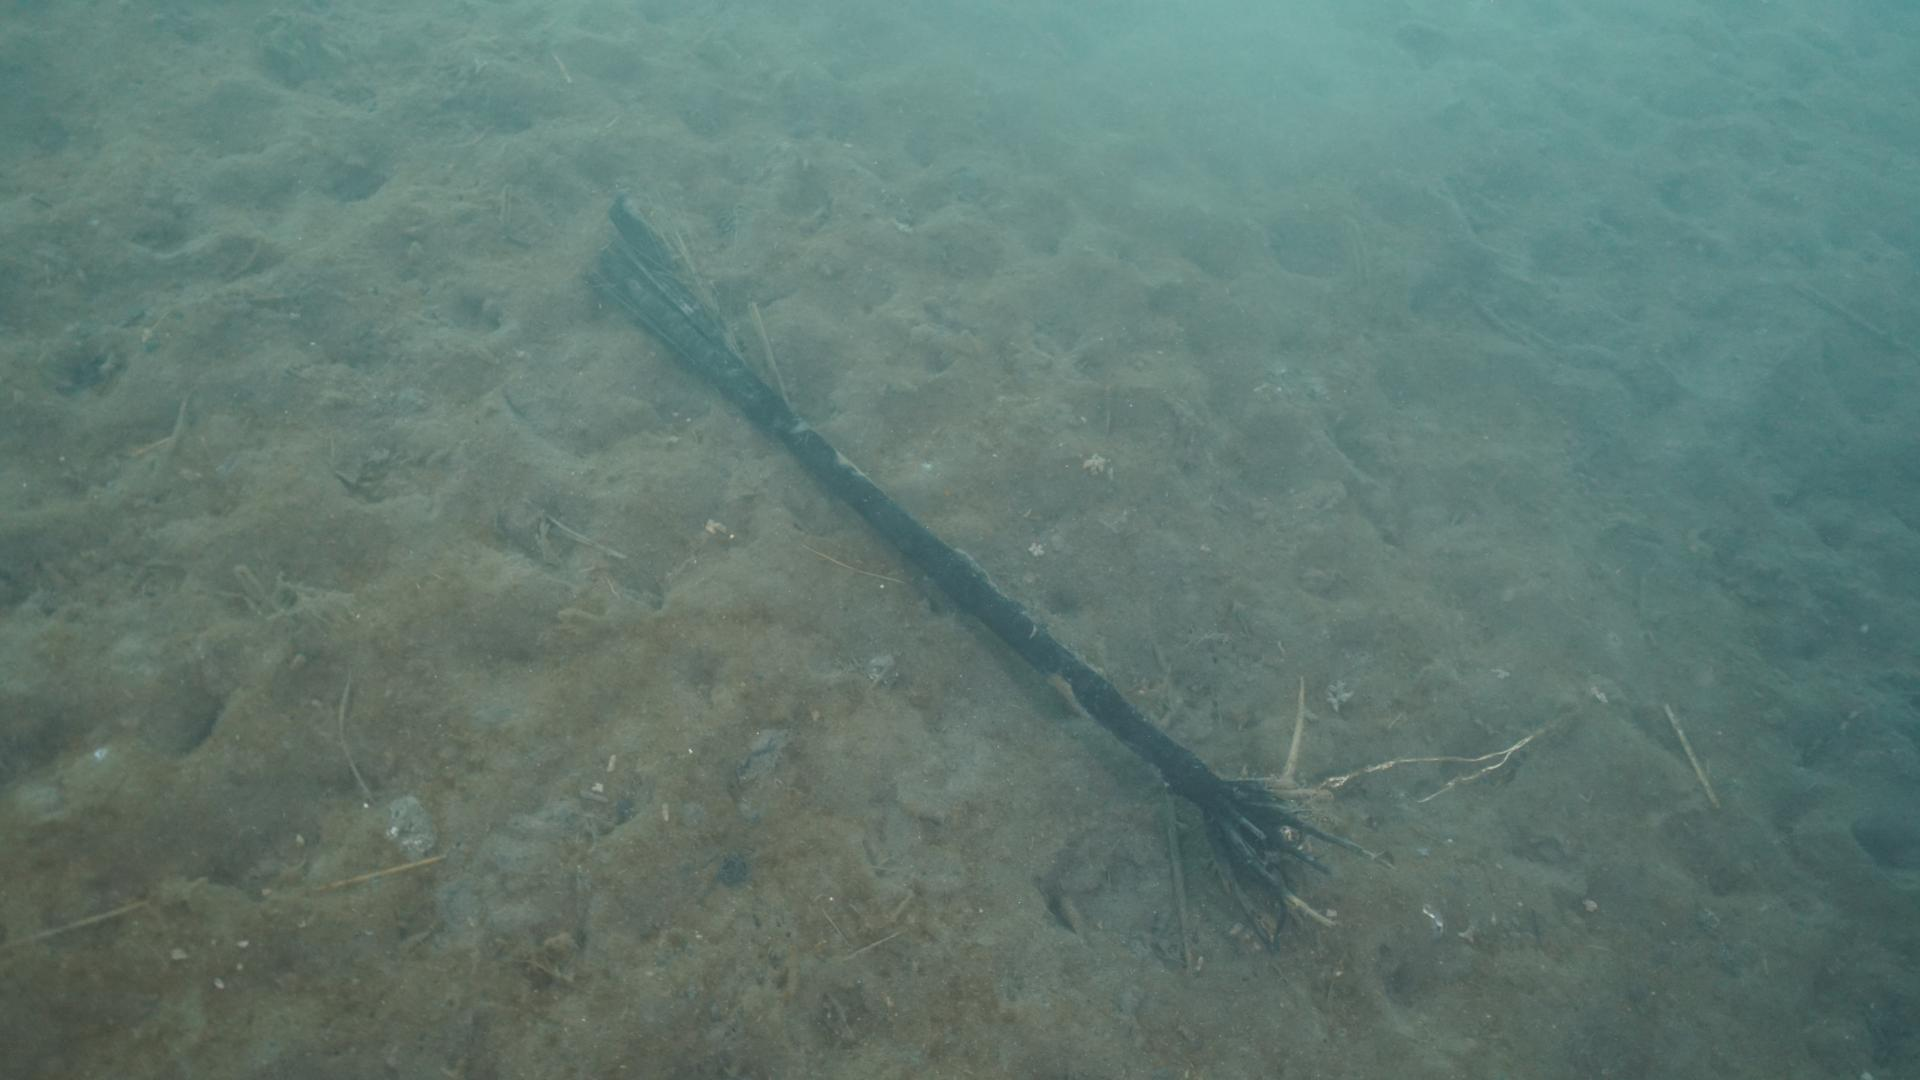wood: (583, 196, 1385, 924)
